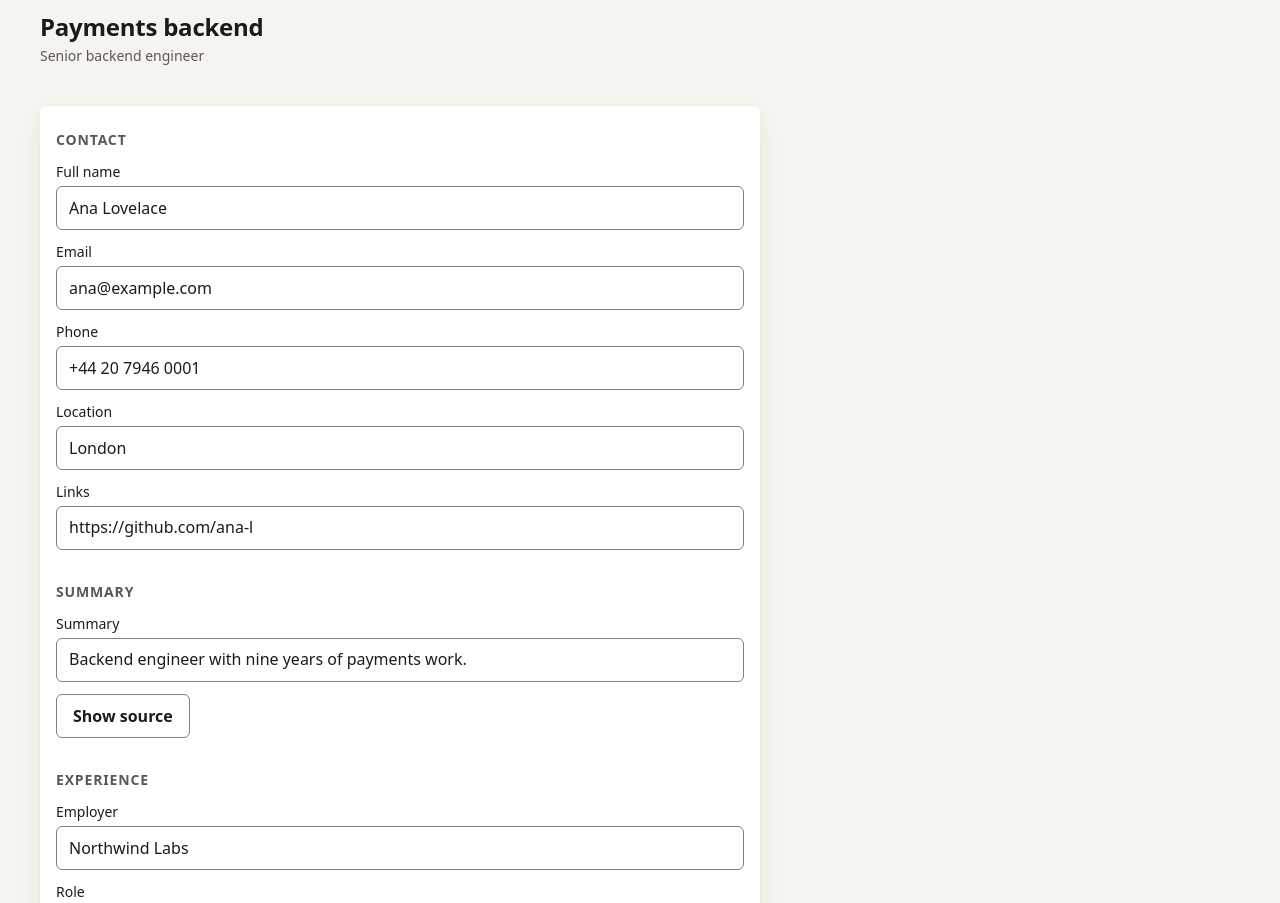
Test: CV editor — 409 VERSION_CONFLICT (C-008, design: conflict_409) › shows the conflict message with Reload latest, keeps the typed text, and does not retry on its own
The width and height of the screenshot is (1280, 903).
Replace the text in the field labelled "Email" with "my-typed@example.com": (400, 288) [56, 266, 744, 310]
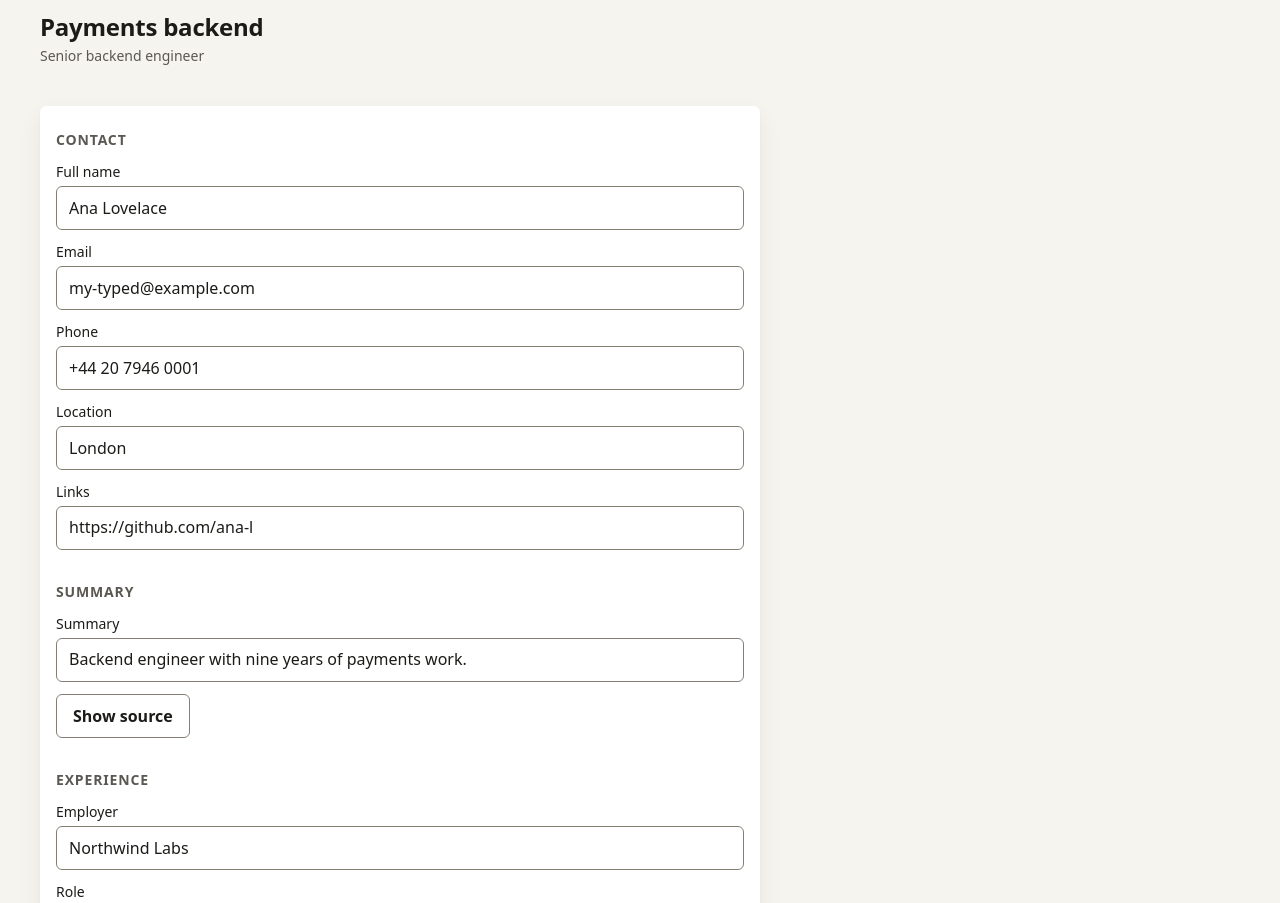
Leave the field labelled "Email", box [56, 266, 744, 310]
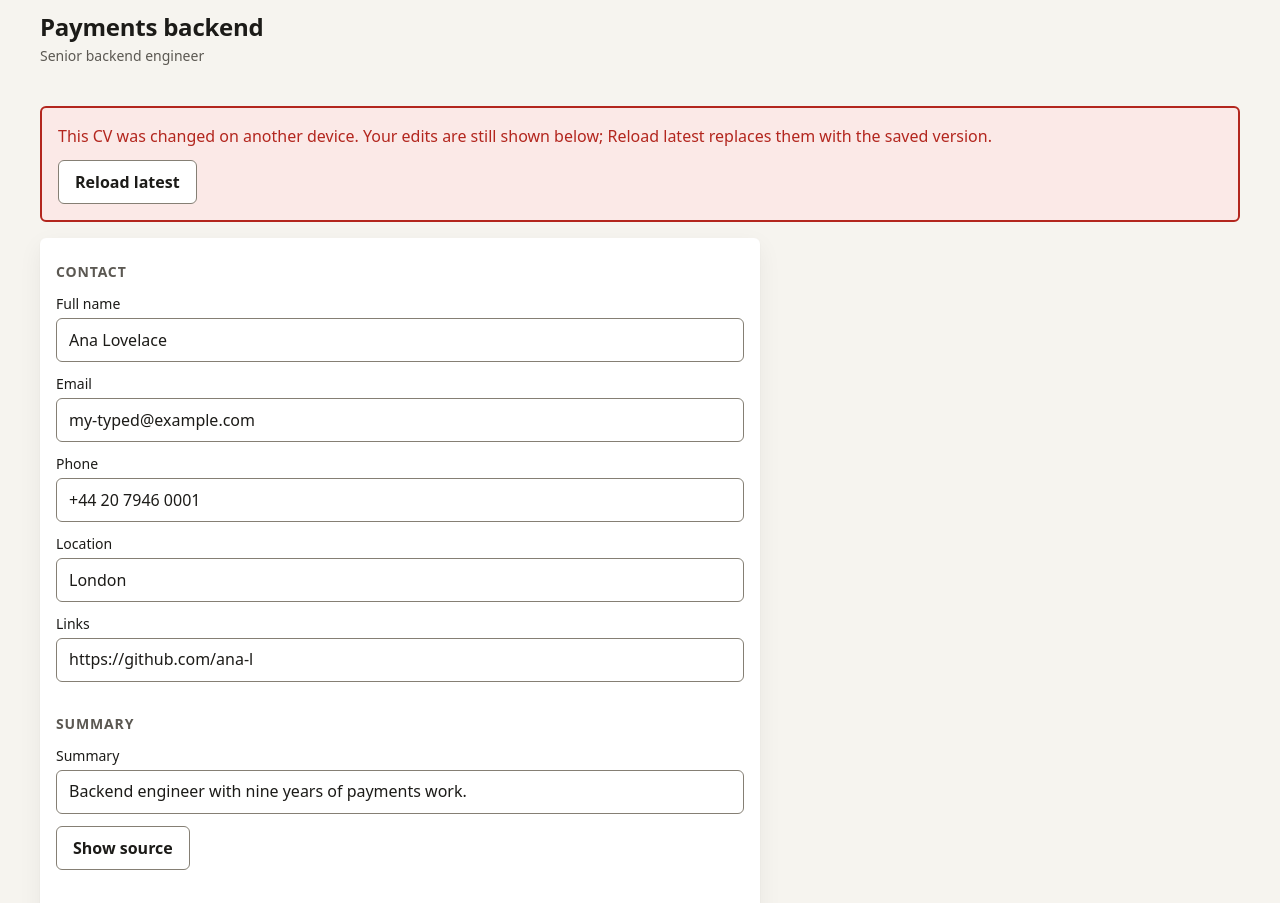
Expected: the 2nd message shows "This CV was changed on another device.", [58, 125, 992, 147]
Expected: the button "Reload latest" is shown, [58, 160, 197, 204]
